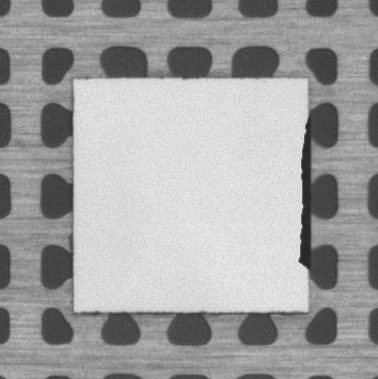DIE_BROKEN: (297, 119, 313, 276)
